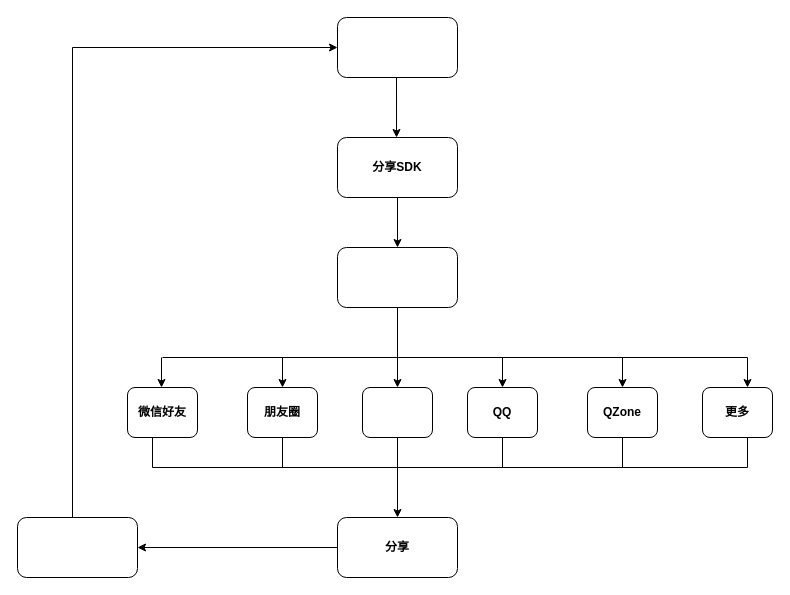
The diagram is 790 pixels wide and 595 high, and some of its shapes have lost their labels. Each missing label, with the box of its shape:
CallBack: (16, 516, 138, 578)
ShareEntity (Data): (336, 16, 458, 78)
分享渠道: (336, 246, 458, 308)
新浪微博: (362, 386, 432, 438)
